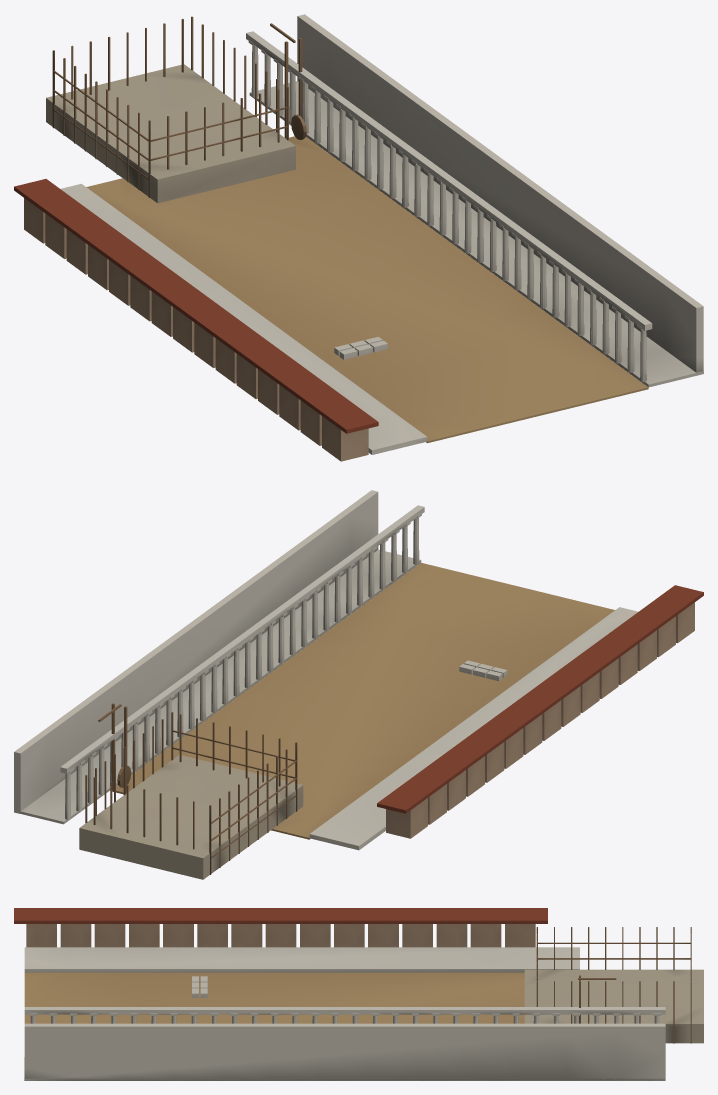
File: forum-of-caesar-construction.glb
The picture shows the model from 3 angles, top to bottom: view 1: azimuth 30°, elevation 25°; view 2: azimuth 150°, elevation 25°; view 3: azimuth 270°, elevation 25°; orthographic projection. The views are drawn at different scales.
Visible parts, largest first — view 1: p1_temple, p0_plaza, p2_site; view 2: p1_temple, p0_plaza, p2_site; view 3: p1_temple, p0_plaza, p2_site.
Part boxes in pixels (bbox=[...]): p1_temple: bbox=[24, 14, 703, 461]; p0_plaza: bbox=[86, 136, 648, 443]; p2_site: bbox=[14, 16, 387, 433]; p1_temple: bbox=[14, 490, 694, 879]; p0_plaza: bbox=[112, 563, 614, 839]; p2_site: bbox=[85, 585, 703, 874]; p1_temple: bbox=[24, 924, 703, 1080]; p0_plaza: bbox=[24, 972, 524, 1023]; p2_site: bbox=[14, 908, 691, 1043].
Size of the model in its own units: 79 by 20.4 by 161.
